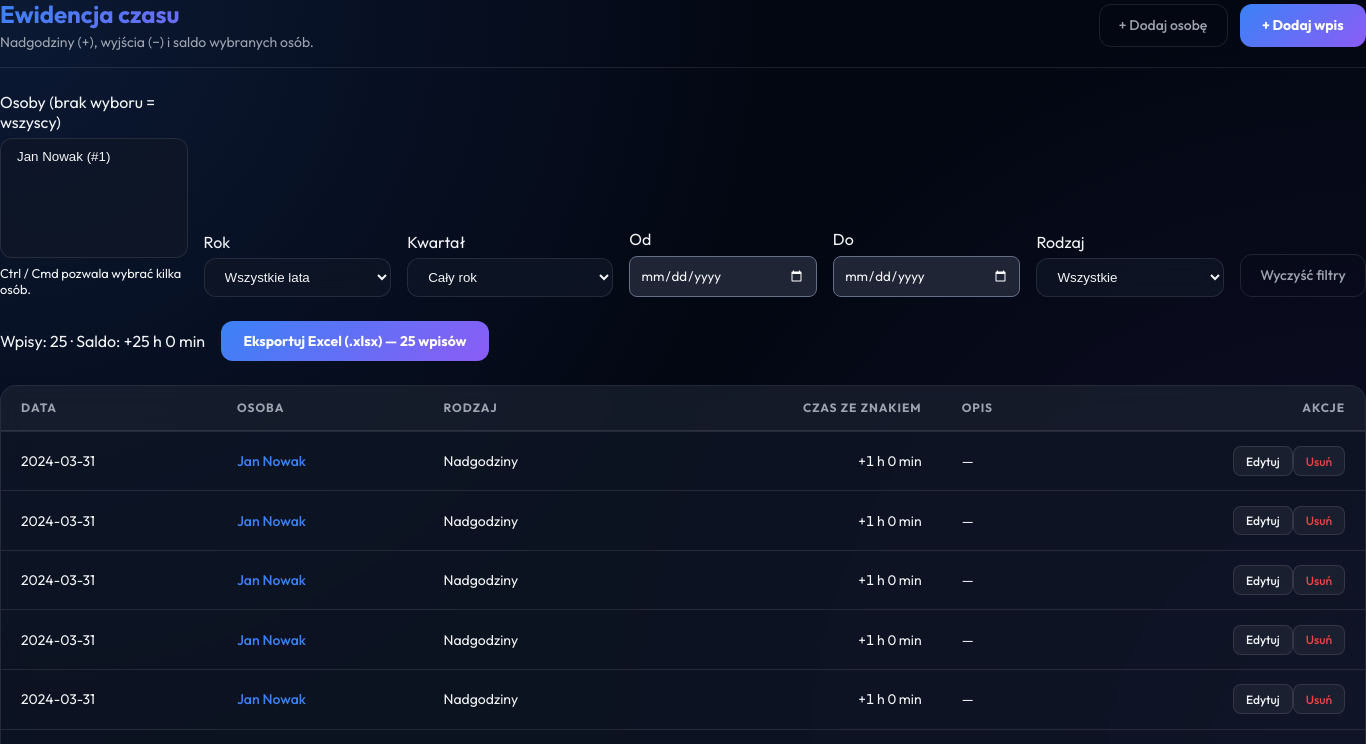
Test: exports the complete filtered quarter across UI pages
Expected: the button "Eksportuj Excel (.xlsx) — 25 wpisów" is shown, [221,321,489,361]
Select "2024" in the dropdown labelled "Rok": (297, 278) [204,258,391,297]
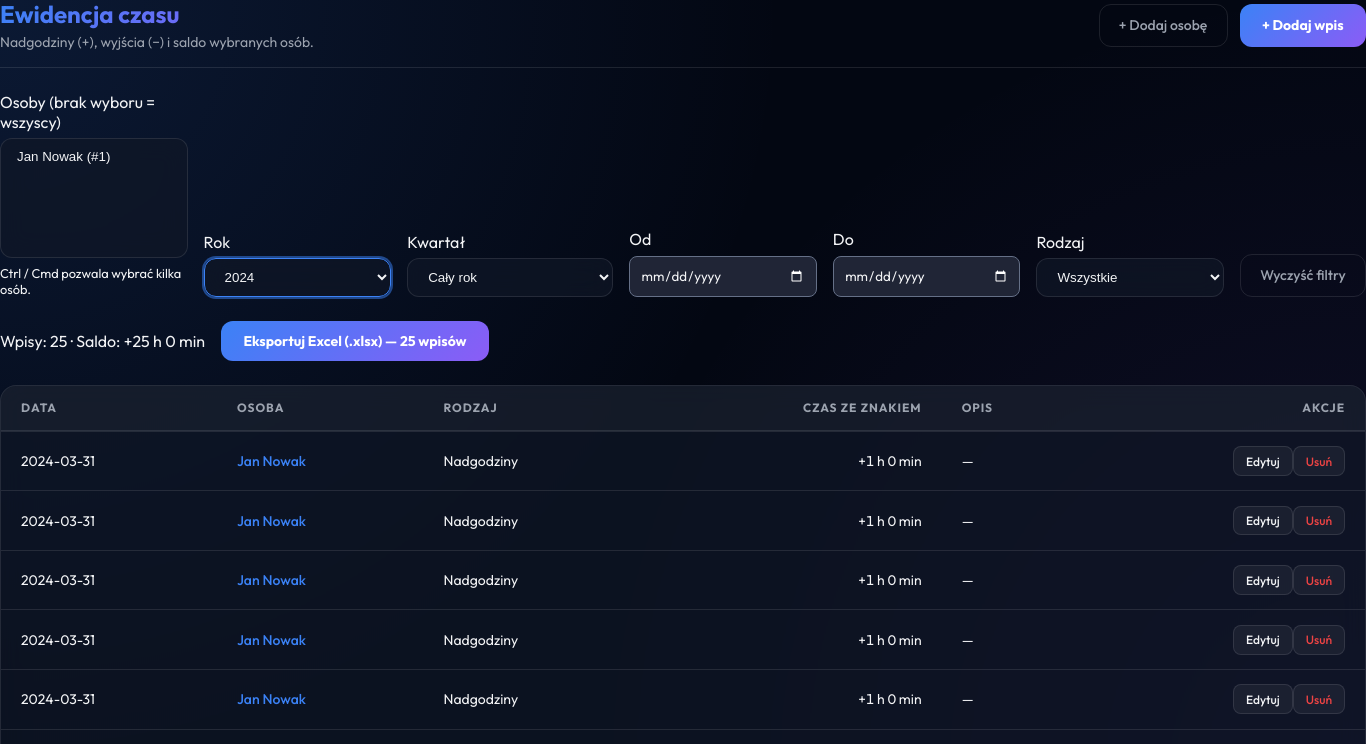
Select "I (styczeń–marzec)" in the dropdown labelled "Kwartał": (510, 278) [407,258,613,297]
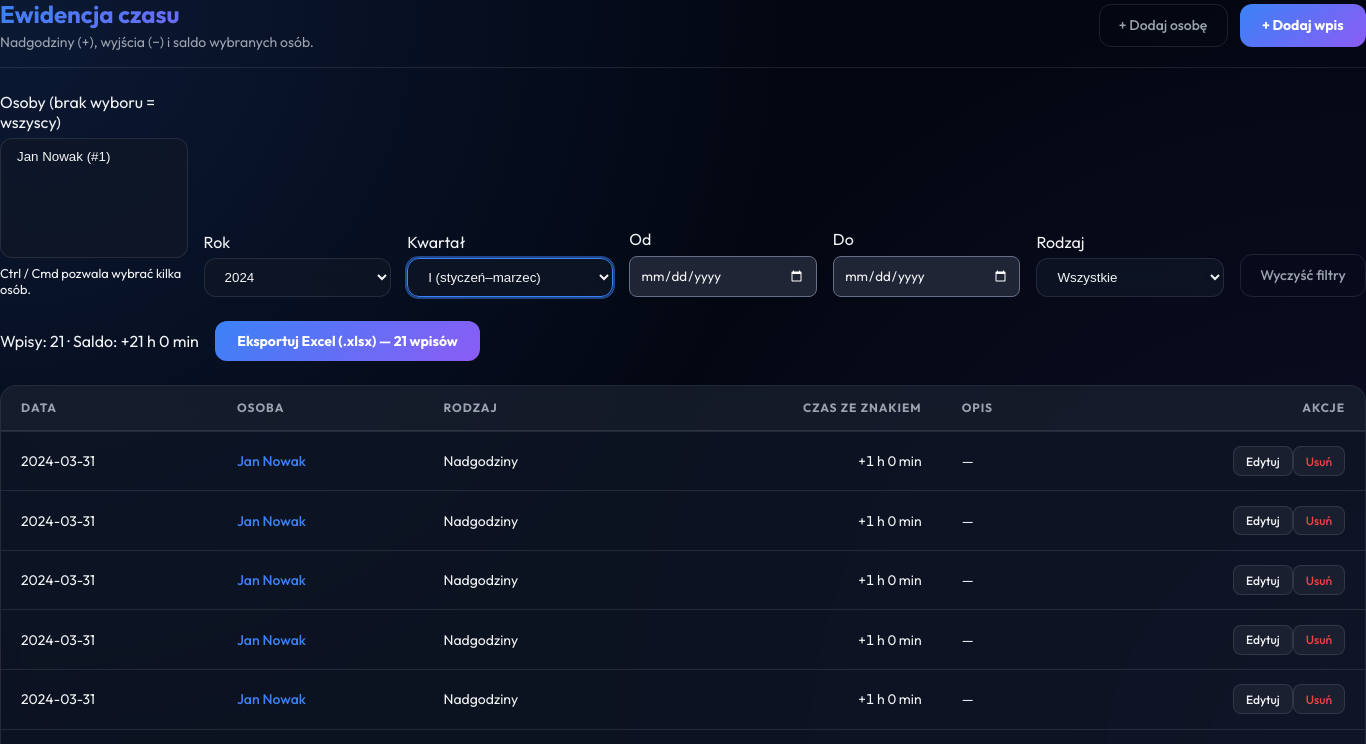
Click the button "Eksportuj Excel (.xlsx) — 21 wpisów": (348, 341) [215,321,480,361]
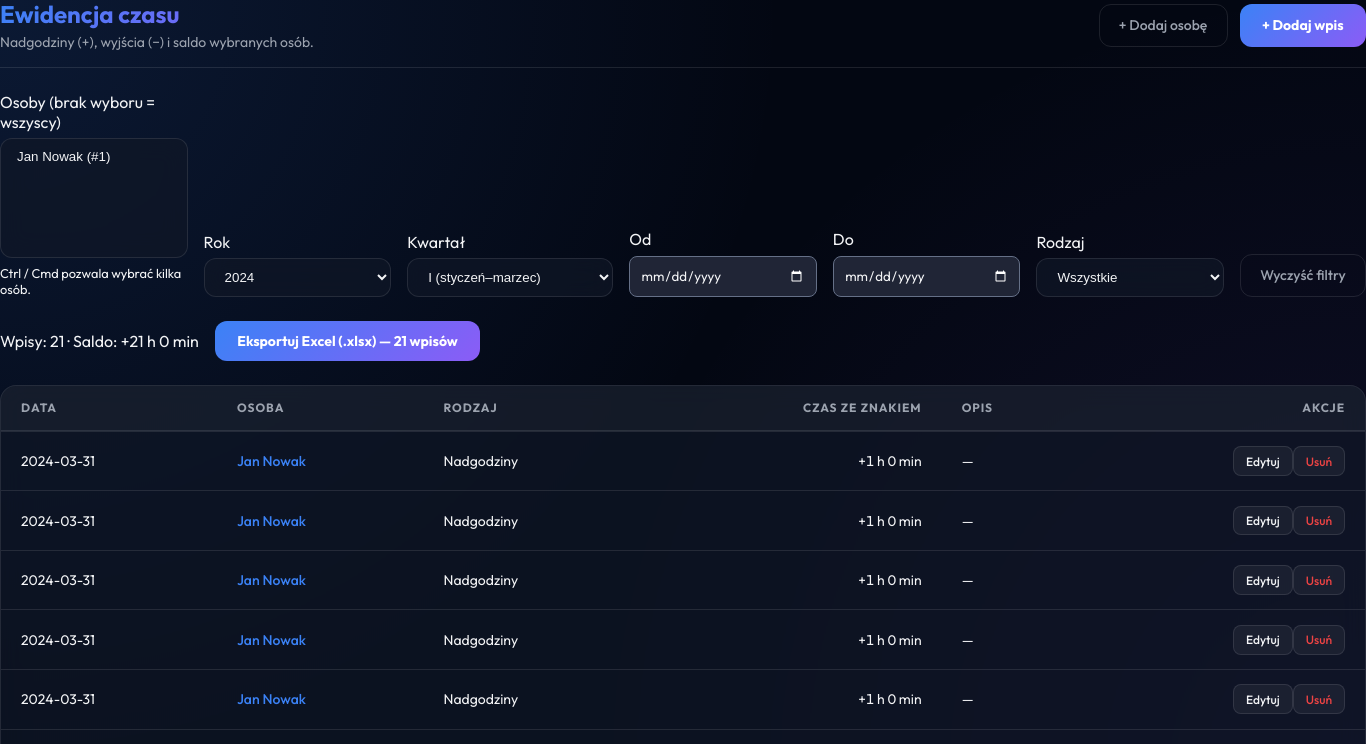
In the date field labelled "Od": (723, 276) [629,256,817,297], type "2024-04-02"
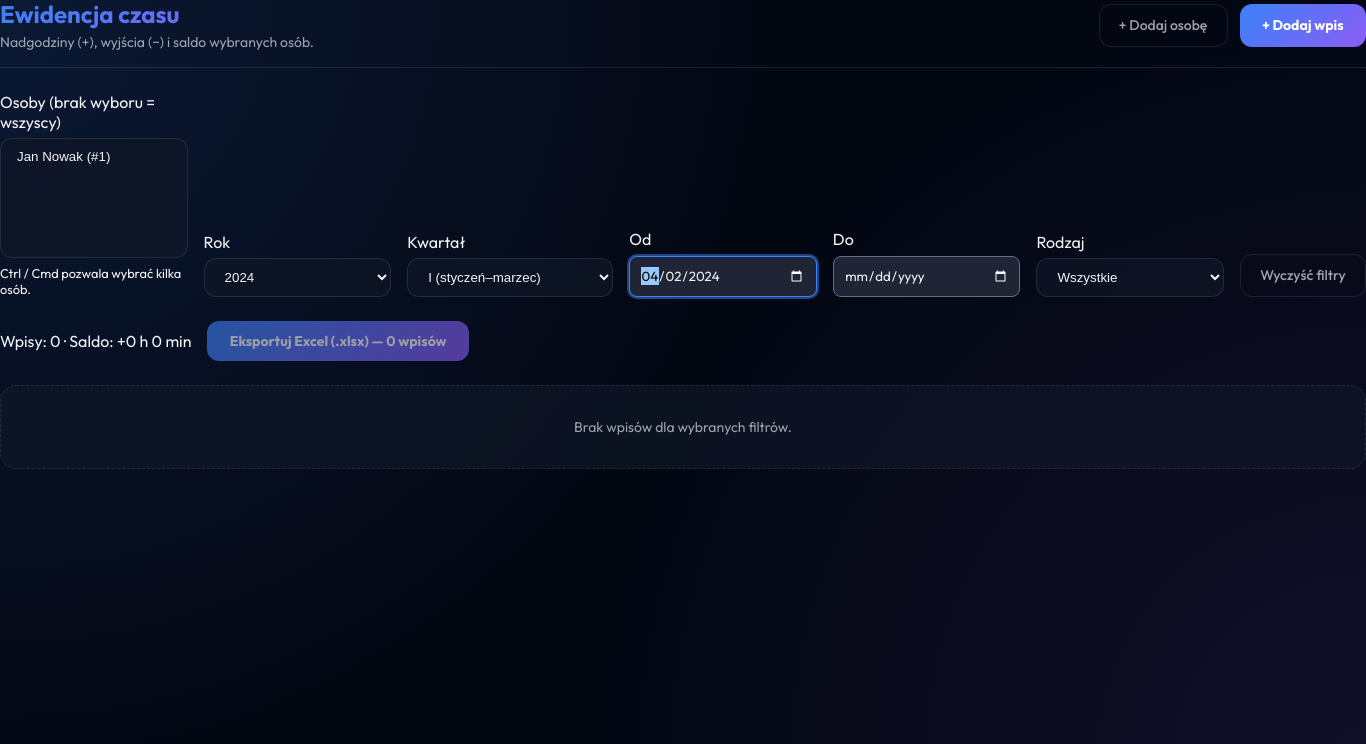
In the date field labelled "Do": (927, 276) [833,256,1020,297], type "2024-04-01"
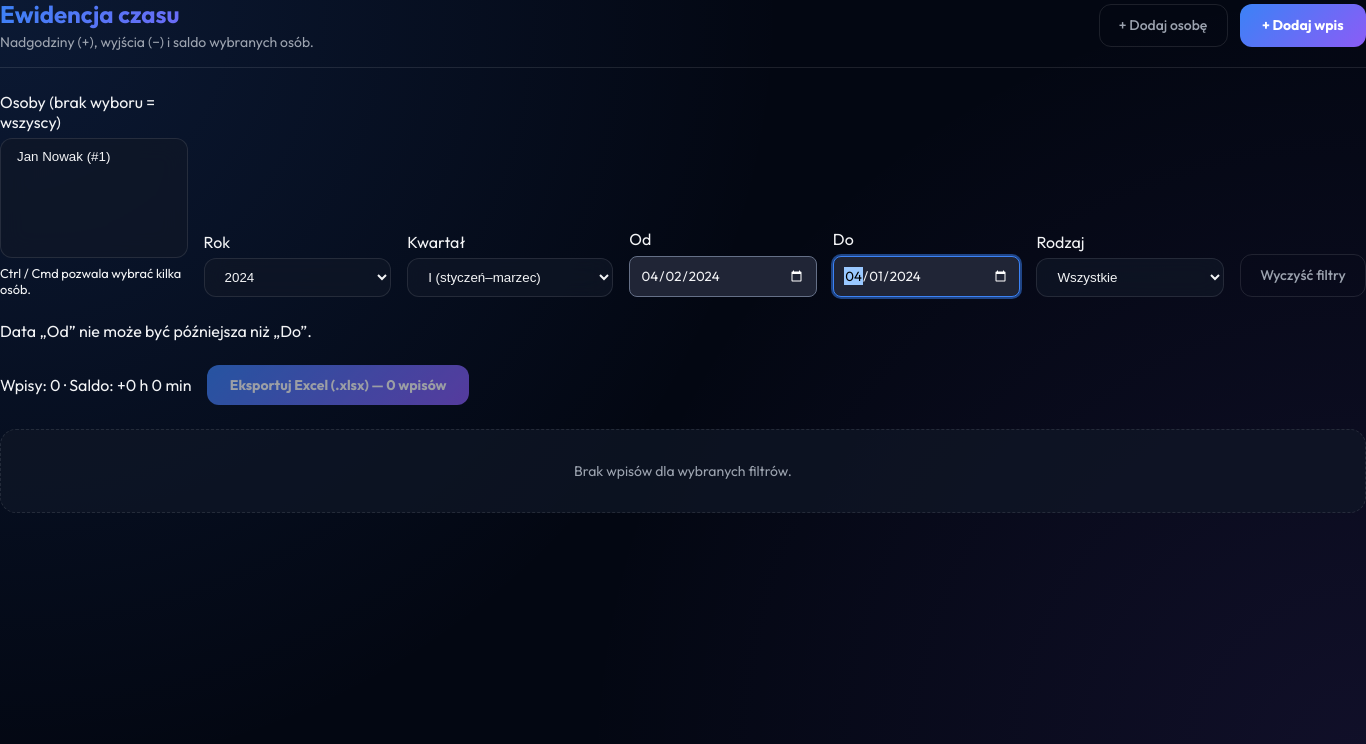
Now the button "Eksportuj Excel (.xlsx) — 0 wpisów" is disabled, box [207,365,469,405]
Now the message shows "Data „Od”", box [0,321,312,341]
